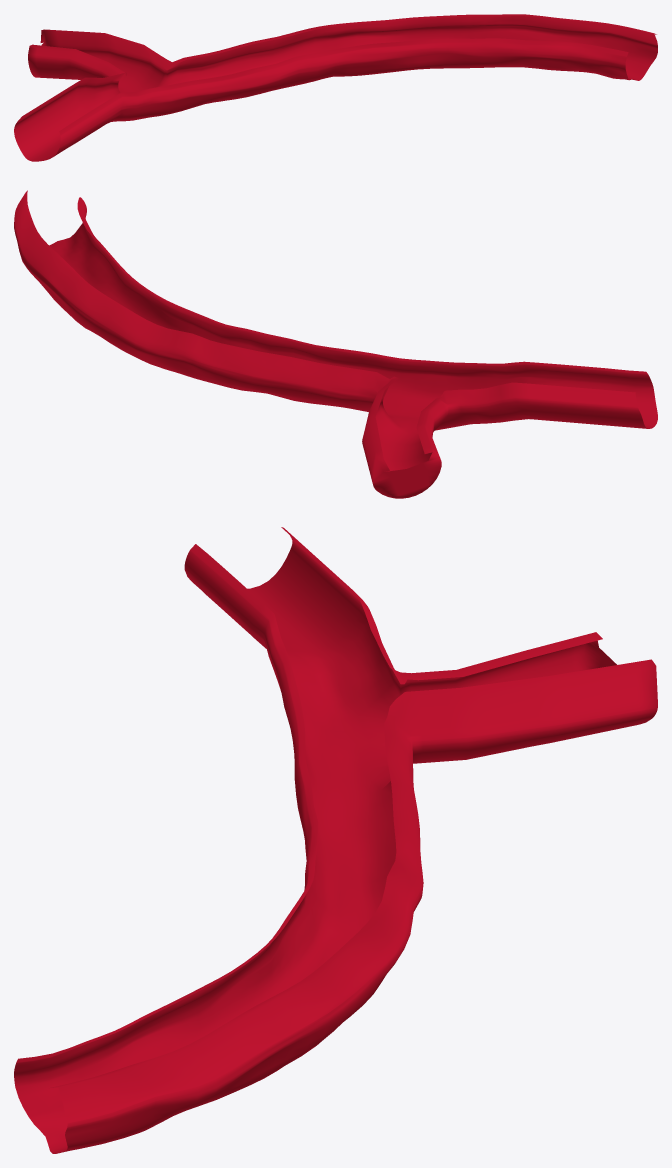
Rendered from BLOOD.gltf.
The picture shows the model from 3 angles, top to bottom: view 1: azimuth 30°, elevation 25°; view 2: azimuth 150°, elevation 25°; view 3: azimuth 270°, elevation 25°; orthographic projection. The views are drawn at different scales.
Visible parts, largest first — view 1: BezierCurve.002; view 2: BezierCurve.002; view 3: BezierCurve.002.
Boxes of the visible parts, <box> form: BezierCurve.002: <box>14,14,657,161</box>; BezierCurve.002: <box>14,190,657,498</box>; BezierCurve.002: <box>14,527,657,1153</box>.
Bounding box in the file's own units: 20.85 × 2.07 × 10.4.
